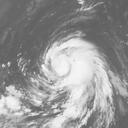cyclone: (41, 38, 96, 90)
